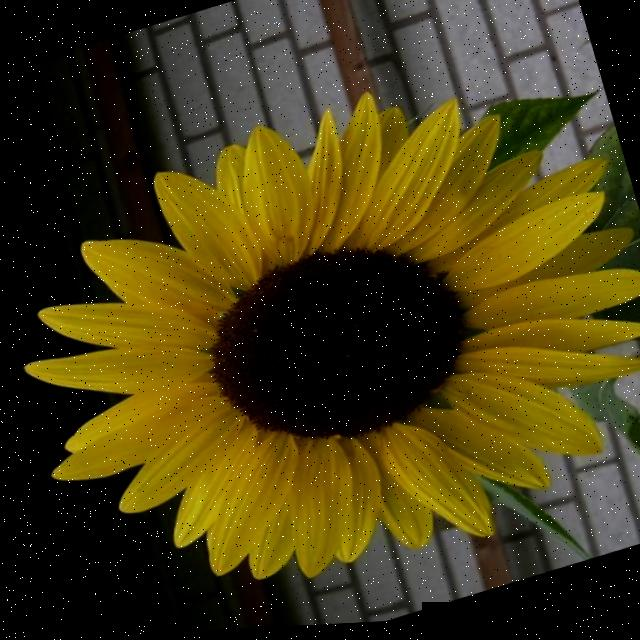sunflower: (1, 19, 640, 640)
